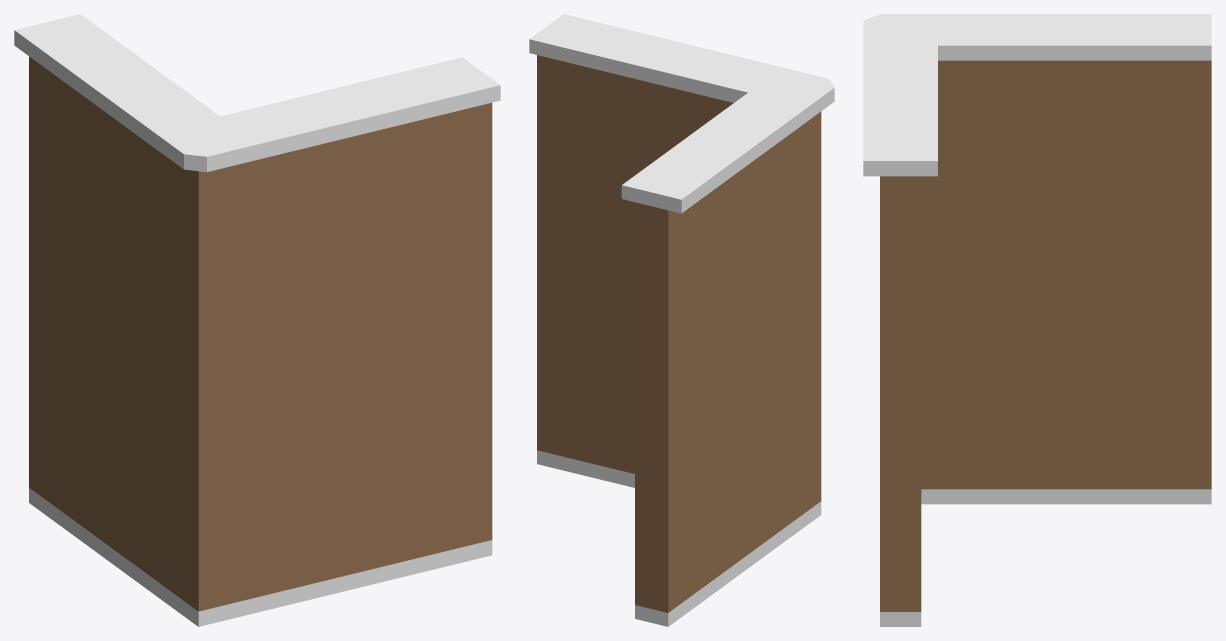
Rendered from SM_200x300_Wall_Corner.fbx.
The picture shows the model from 3 angles, left to right: view 1: azimuth 30°, elevation 25°; view 2: azimuth 150°, elevation 25°; view 3: azimuth 270°, elevation 25°; orthographic projection. The views are drawn at different scales.
Visible parts, largest first — view 1: SM_200x300_BasicWall_Corner; view 2: SM_200x300_BasicWall_Corner; view 3: SM_200x300_BasicWall_Corner.
Boxes of the visible parts, x1,y1,x2,y2 form: SM_200x300_BasicWall_Corner: [14, 14, 500, 626]; SM_200x300_BasicWall_Corner: [529, 14, 834, 626]; SM_200x300_BasicWall_Corner: [863, 14, 1211, 626].
Size of what is drawn, in the model's own units: 210 by 210 by 310.
